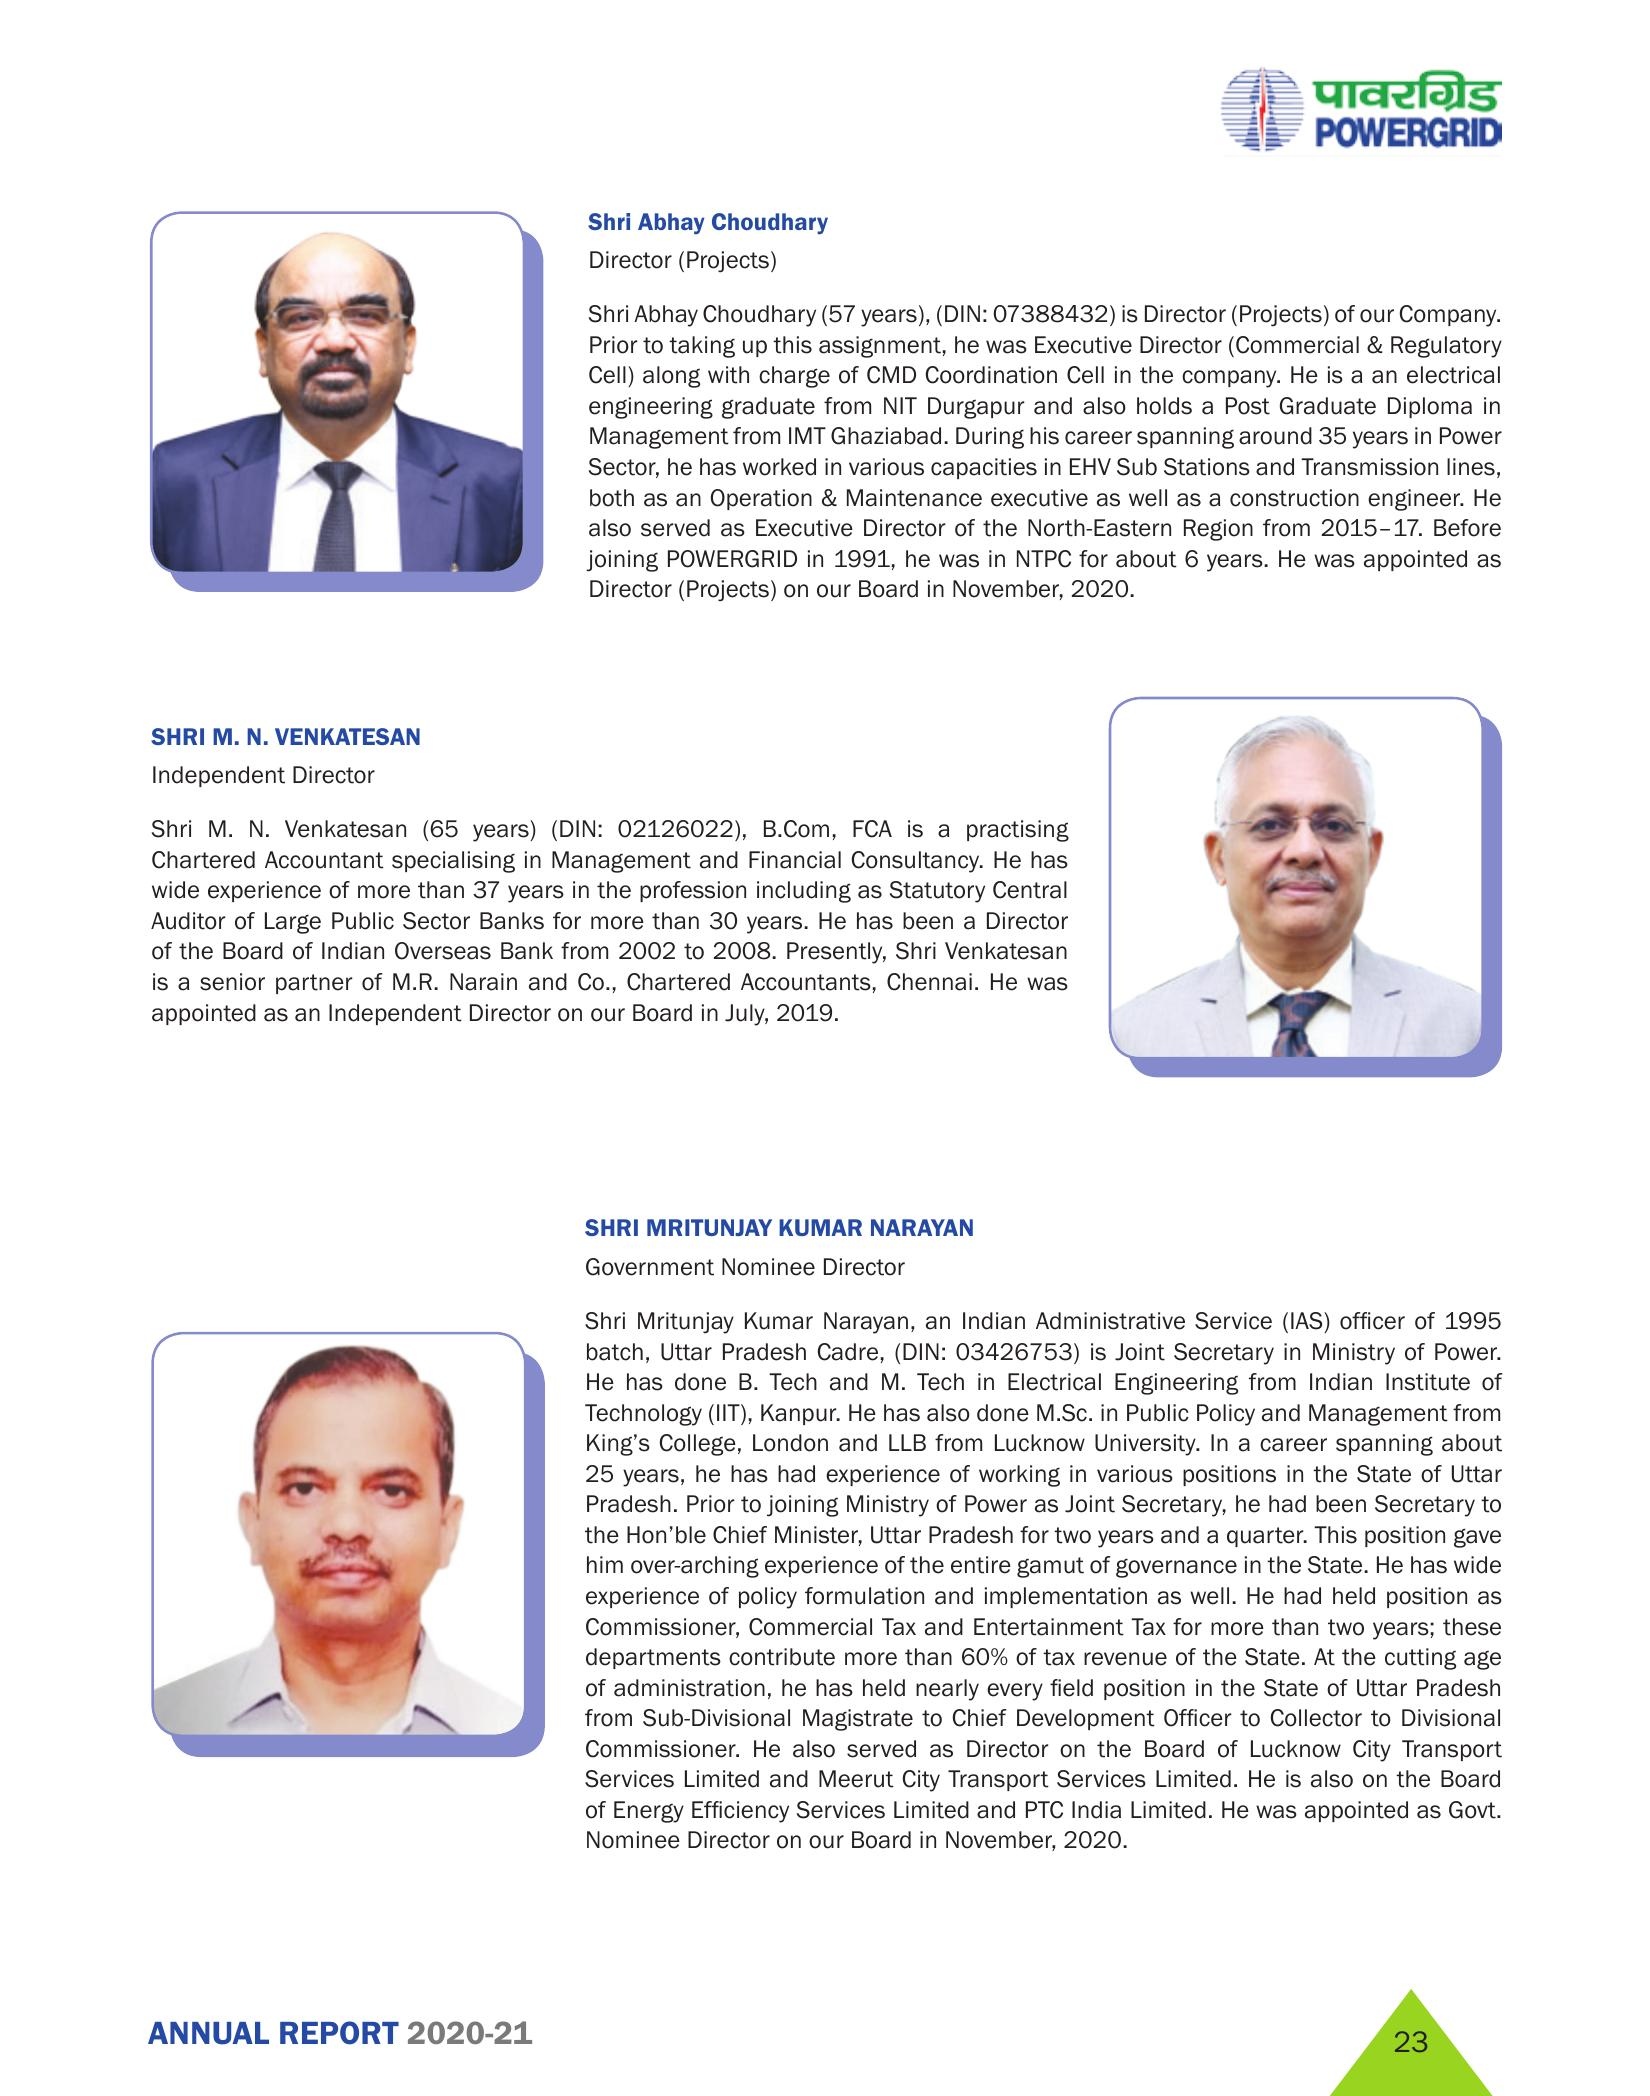Footer: (0, 1974, 1650, 2096)
Header: (0, 0, 1650, 184)
Image: (129, 1307, 560, 1761), (1070, 670, 1511, 1079), (126, 204, 539, 592)
